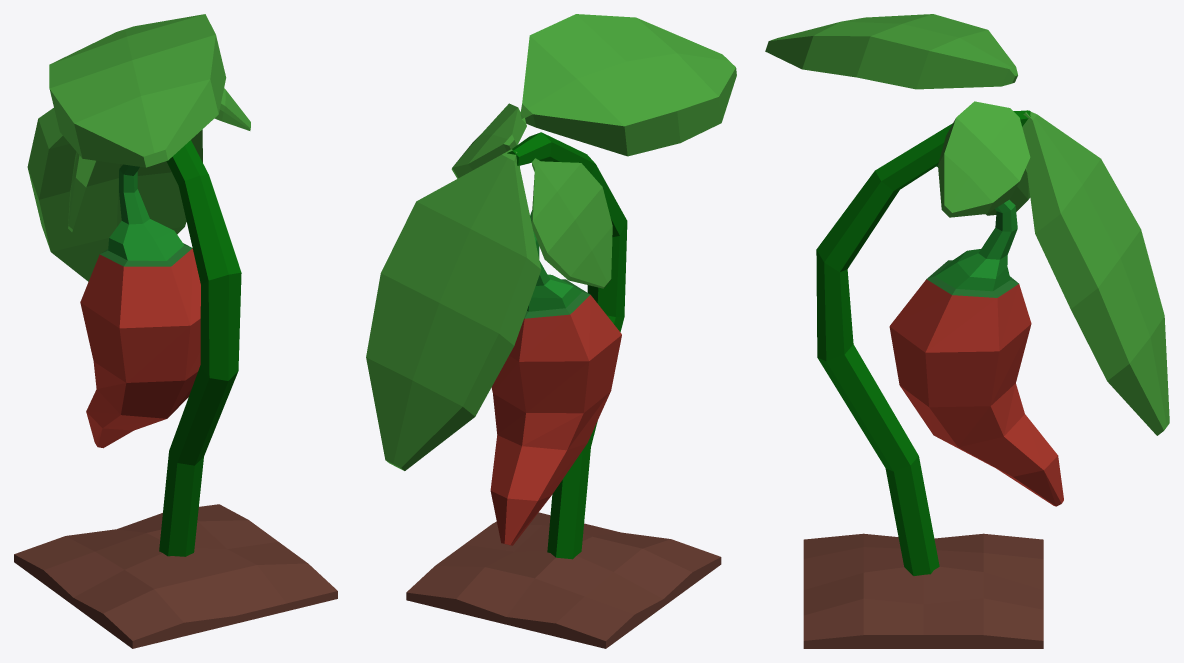
Rendered from chili 1.fbx.
3 views of the same model, side by side, from view 1: azimuth 30°, elevation 25°; view 2: azimuth 150°, elevation 25°; view 3: azimuth 270°, elevation 25° (orthographic). The views are drawn at different scales.
Visible parts, largest first — view 1: dirt, chili.003, leaf.001, stalk, leaf, leaf.003, leaf.002; view 2: leaf, dirt, leaf.001, chili.003, leaf.003, stalk, leaf.002; view 3: chili.003, dirt, leaf, stalk, leaf.001, leaf.002.
Part boxes in pixels (<box>): dirt: <box>14,504,337,648</box>; chili.003: <box>80,164,200,448</box>; leaf.001: <box>49,14,226,167</box>; stalk: <box>159,140,241,556</box>; leaf: <box>27,108,202,281</box>; leaf.003: <box>68,152,96,231</box>; leaf.002: <box>214,88,250,130</box>; leaf: <box>366,149,541,470</box>; dirt: <box>406,512,721,648</box>; leaf.001: <box>520,14,736,156</box>; chili.003: <box>490,210,621,545</box>; leaf.003: <box>531,158,612,288</box>; stalk: <box>507,132,627,559</box>; leaf.002: <box>451,103,526,178</box>; chili.003: <box>889,165,1063,506</box>; dirt: <box>803,533,1043,648</box>; leaf: <box>1022,110,1169,435</box>; stalk: <box>816,110,1030,575</box>; leaf.001: <box>765,14,1017,89</box>; leaf.002: <box>938,101,1030,217</box>.
Size of the model in its own units: 1046 by 2405 by 1551.
4 materials, 1 textured.
